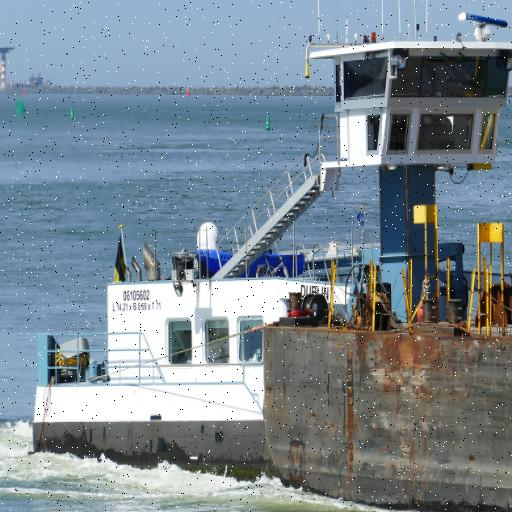tugboat: (27, 8, 512, 497)
